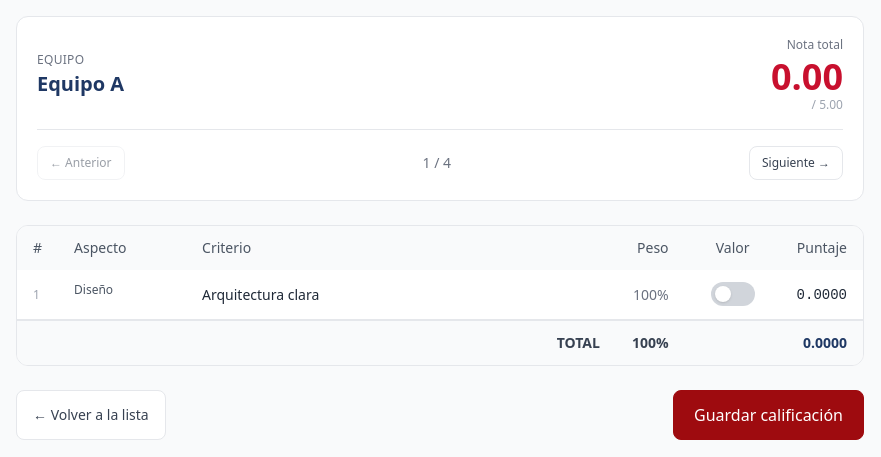
it: GradingTemplatePage — estado de navegación al guardar › al volver con "Anterior" y guardar, salta al siguiente realmente pendiente, no a uno ya calificado
This screenshot has width=881, height=457.
Expected: the heading "Equipo A" is shown, [37,70,124,98]
Click the button "Guardar calificación".
click(768, 415)  # box [673,390,864,440]
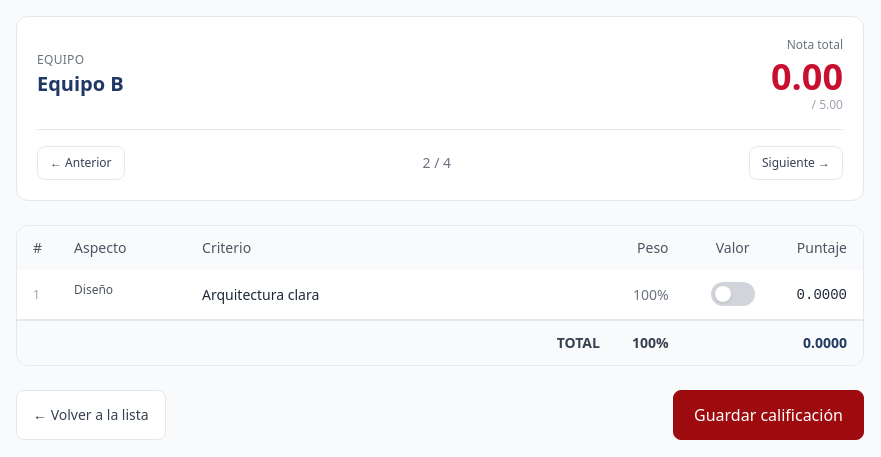
Now the heading "Equipo B" is shown, box [37,70,124,98]
Click the button "Guardar calificación".
click(768, 415)  # box [673,390,864,440]
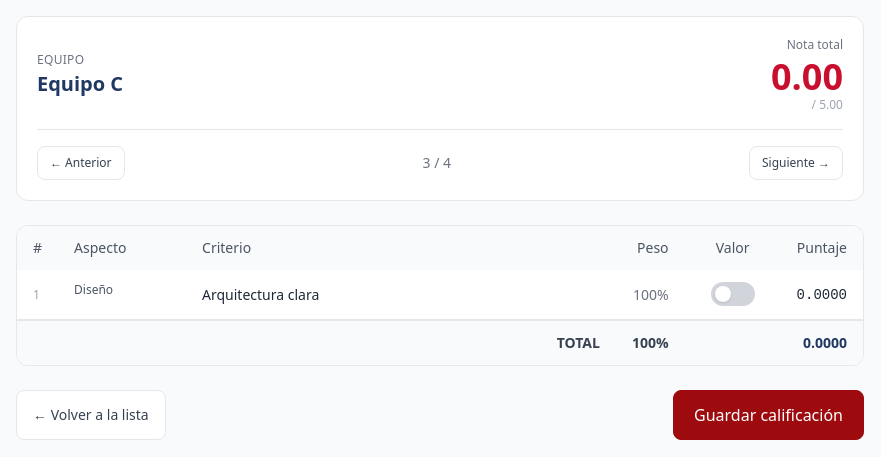
Now the heading "Equipo C" is shown, box [37,70,123,98]
Note: Vuelve a A, lo corrige y guarda: B ya está calificado, el siguiente pendiente es C
Click the button "← Anterior".
click(81, 163)  # box [37,146,125,180]
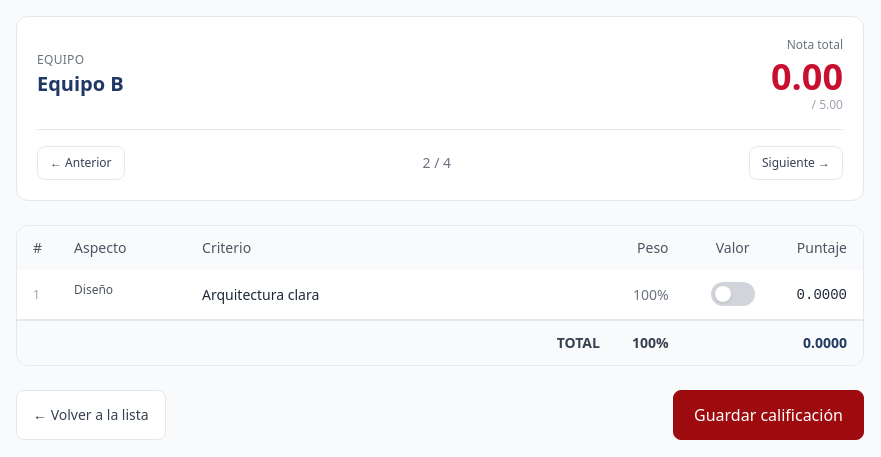
Now the heading "Equipo B" is shown, box [37,70,124,98]
Click the button "← Anterior".
click(81, 163)  # box [37,146,125,180]
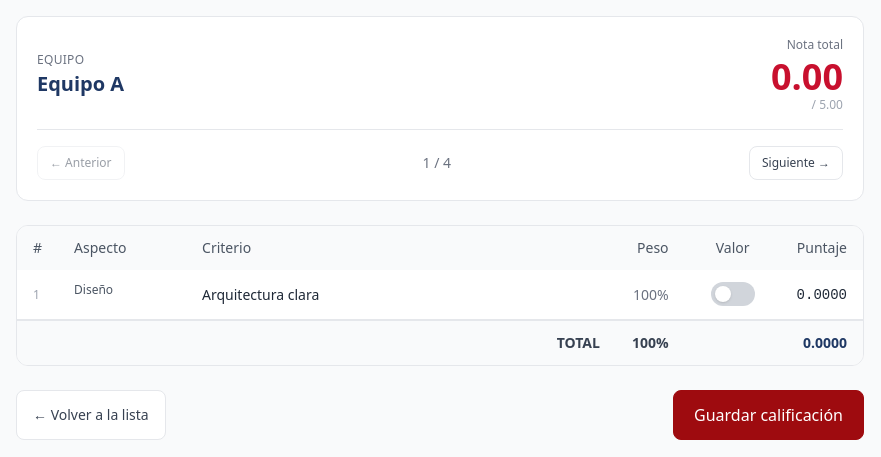
Now the heading "Equipo A" is shown, box [37,70,124,98]
Click the button named "No cumple (0)".
click(733, 294)  # box [711,282,755,306]
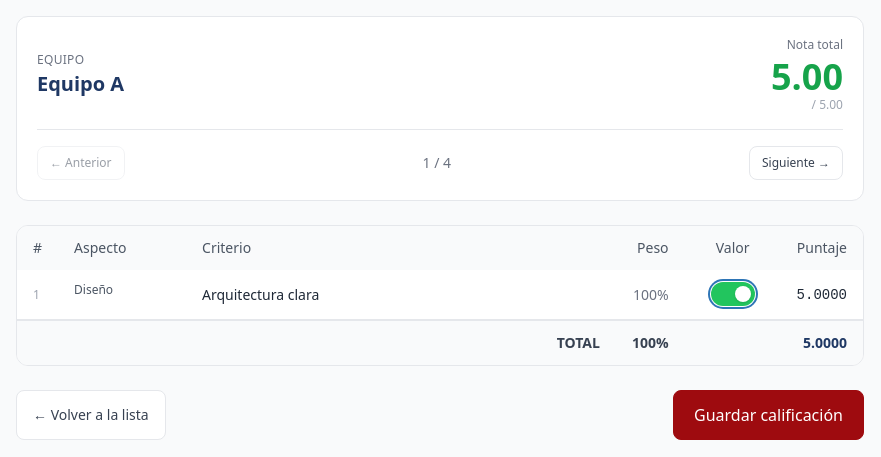
Click the button "Guardar calificación".
click(768, 415)  # box [673,390,864,440]
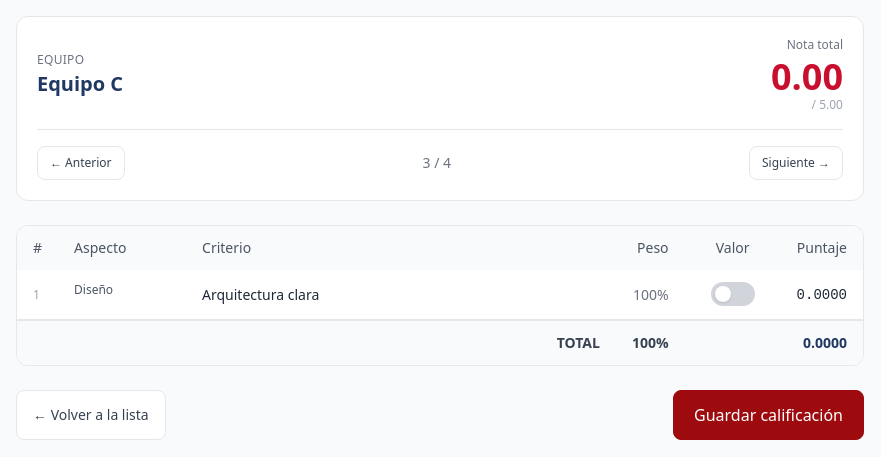
Now the heading "Equipo C" is shown, box [37,70,123,98]
